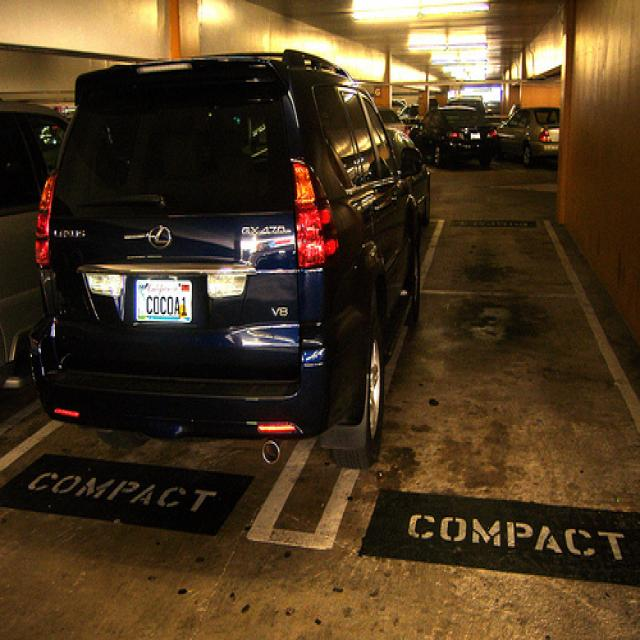Car: (35, 43, 428, 465)
